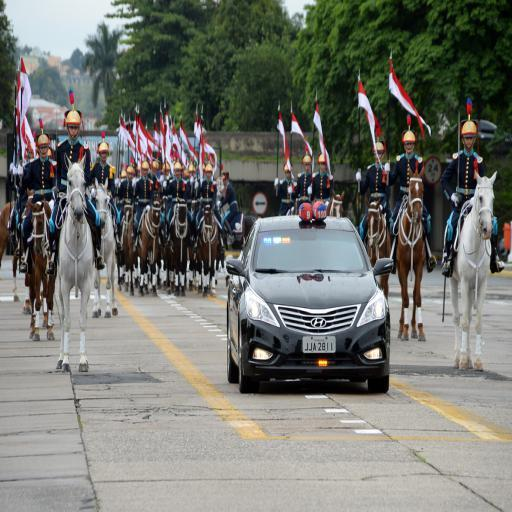horse: (0, 150, 257, 374), (445, 168, 498, 371), (392, 164, 428, 341), (360, 193, 395, 306), (325, 188, 346, 220)
